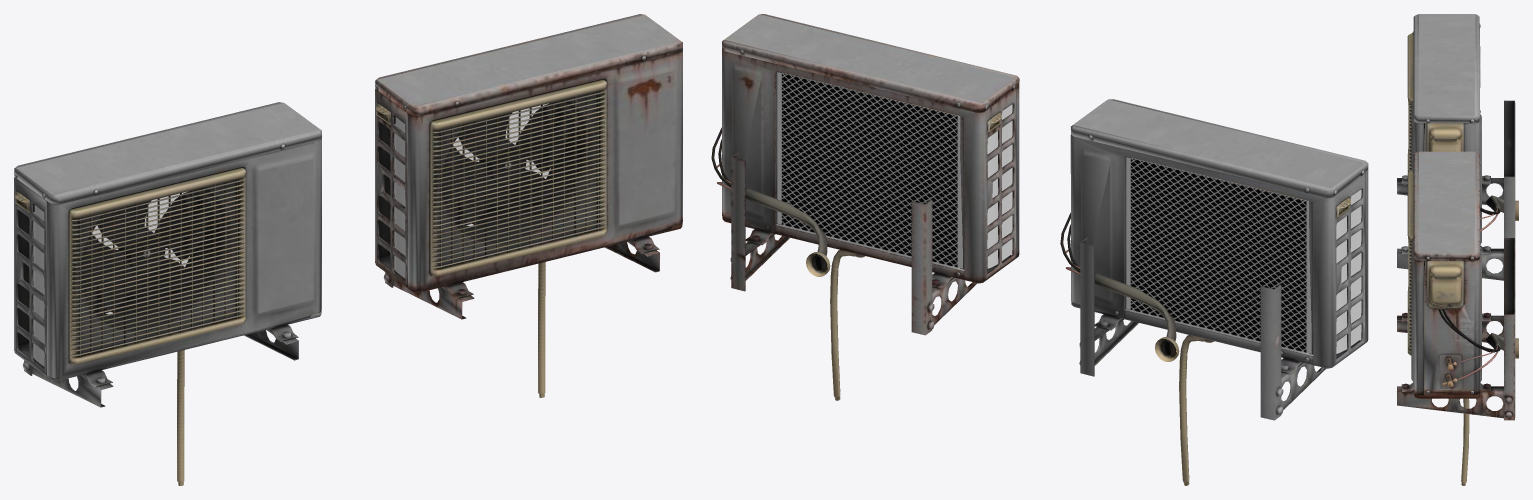
File: ph_exterior_aircon_unit.glb
3 views of the same model, side by side, from view 1: azimuth 30°, elevation 25°; view 2: azimuth 150°, elevation 25°; view 3: azimuth 270°, elevation 25° (orthographic). The views are drawn at different scales.
Visible parts, largest first — view 1: exterior_aircon_unit; view 2: exterior_aircon_unit; view 3: exterior_aircon_unit.
Part boxes in pixels (x1,y1,x2,y2): exterior_aircon_unit: (14, 14, 682, 485); exterior_aircon_unit: (711, 14, 1368, 485); exterior_aircon_unit: (1397, 14, 1518, 485).
Size of the model in its own units: 1.8 by 0.928 by 0.3742.
4 materials, 4 textured.
